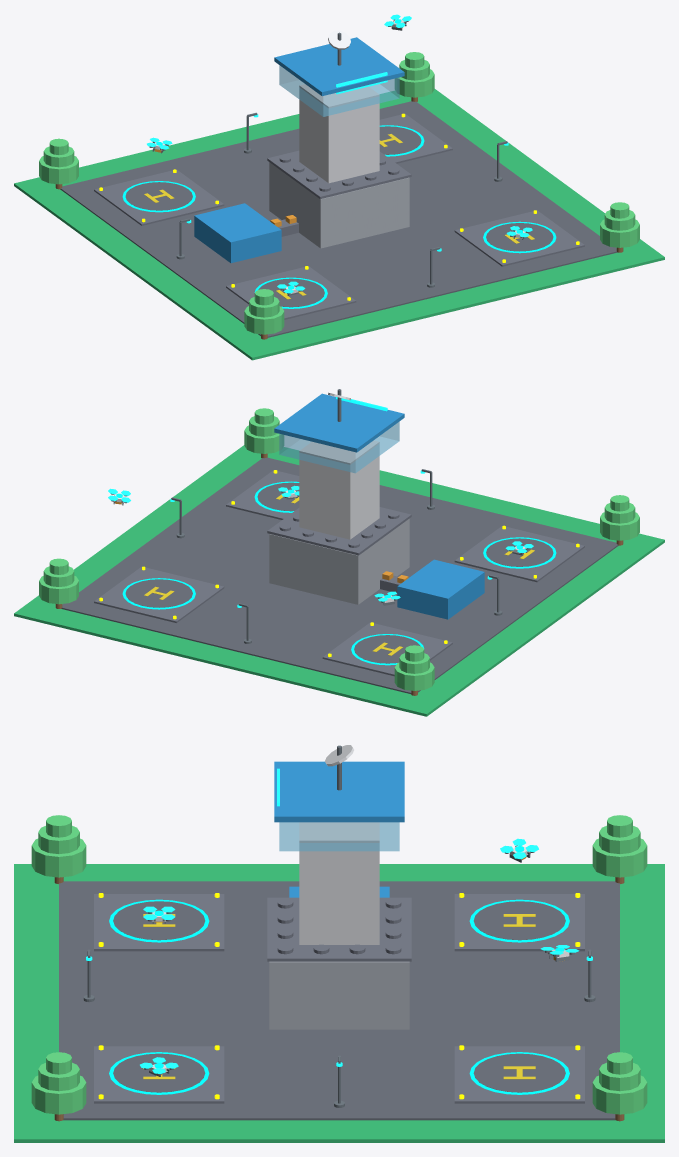
File: drone_port_complex.glb
3 views of the same model, one above another, from view 1: azimuth 30°, elevation 25°; view 2: azimuth 150°, elevation 25°; view 3: azimuth 270°, elevation 25° (orthographic). The views are drawn at different scales.
Parts seen in each view (by area): view 1: Drone_Tarmac_Asphalt, Drone_Port_Base, Tower_Shaft, Tower_Base, Tower_Cupola_Roof, Cargo_Sorting_Hub, Tower_Base_Roof_Studs, Tower_Cupola_Glass, Pad_Beta_Plaza, Pad_Gamma_Plaza, Pad_Alpha_Plaza, DronePort_Pine_0 (+8 smaller); view 2: Drone_Tarmac_Asphalt, Drone_Port_Base, Tower_Shaft, Tower_Base, Tower_Cupola_Roof, Cargo_Sorting_Hub, Tower_Base_Roof_Studs, Tower_Cupola_Glass, Pad_Alpha_Plaza, Pad_Delta_Plaza, Pad_Gamma_Plaza, DronePort_Pine_2 (+8 smaller); view 3: Drone_Tarmac_Asphalt, Drone_Port_Base, Tower_Shaft, Tower_Base, Tower_Cupola_Roof, Tower_Base_Roof_Studs, Pad_Beta_Plaza, Pad_Delta_Plaza, Pad_Alpha_Plaza, Pad_Gamma_Plaza, Tower_Cupola_Glass, DronePort_Pine_1 (+11 smaller).
Part boxes in pixels (x1,y1,x2,y2): Drone_Tarmac_Asphalt: [60, 101, 617, 337]; Drone_Port_Base: [14, 89, 664, 360]; Tower_Shaft: [299, 84, 379, 183]; Tower_Base: [269, 162, 409, 248]; Tower_Cupola_Roof: [274, 37, 404, 96]; Cargo_Sorting_Hub: [194, 203, 281, 263]; Tower_Base_Roof_Studs: [267, 150, 411, 199]; Tower_Cupola_Glass: [279, 65, 399, 116]; Pad_Beta_Plaza: [454, 210, 584, 266]; Pad_Gamma_Plaza: [94, 169, 224, 225]; Pad_Alpha_Plaza: [226, 266, 356, 319]; DronePort_Pine_0: [244, 289, 284, 334]; Drone_Tarmac_Asphalt: [61, 457, 618, 693]; Drone_Port_Base: [14, 445, 664, 716]; Tower_Shaft: [299, 440, 379, 539]; Tower_Base: [269, 518, 409, 604]; Tower_Cupola_Roof: [274, 393, 404, 452]; Cargo_Sorting_Hub: [397, 559, 484, 619]; Tower_Base_Roof_Studs: [267, 507, 411, 555]; Tower_Cupola_Glass: [279, 421, 399, 473]; Pad_Alpha_Plaza: [454, 526, 584, 582]; Pad_Delta_Plaza: [94, 566, 224, 622]; Pad_Gamma_Plaza: [322, 622, 452, 676]; DronePort_Pine_2: [394, 645, 434, 690]; Drone_Tarmac_Asphalt: [59, 881, 619, 1120]; Drone_Port_Base: [14, 864, 664, 1142]; Tower_Shaft: [299, 822, 379, 944]; Tower_Base: [269, 961, 409, 1029]; Tower_Cupola_Roof: [274, 761, 404, 822]; Tower_Base_Roof_Studs: [267, 897, 411, 961]; Pad_Beta_Plaza: [94, 1046, 224, 1103]; Pad_Delta_Plaza: [454, 1046, 584, 1103]; Pad_Alpha_Plaza: [94, 894, 224, 951]; Pad_Gamma_Plaza: [454, 894, 584, 951]; Tower_Cupola_Glass: [279, 822, 399, 851]; DronePort_Pine_1: [31, 1052, 86, 1114].
Bounding box in the file's own units: 65 × 28.5 × 65.
